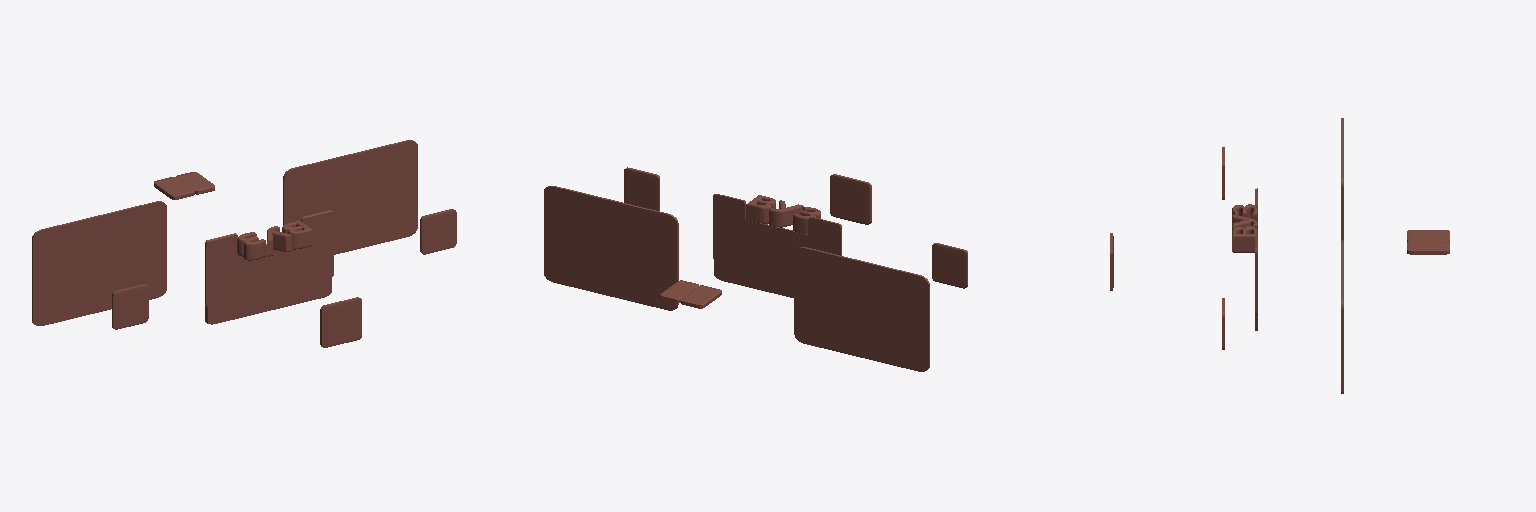
Rendered from tinker.obj.
3 renders of one model, left to right at view 1: azimuth 30°, elevation 25°; view 2: azimuth 150°, elevation 25°; view 3: azimuth 270°, elevation 25°, orthographic.
Parts seen in each view (by area): view 1: obj_0; view 2: obj_0; view 3: obj_0.
Boxes of the visible parts, x1,y1,x2,y2 form: obj_0: [32, 140, 456, 347]; obj_0: [544, 167, 967, 371]; obj_0: [1110, 118, 1449, 393].
Size of the model in its own units: 173 by 41.15 by 132.